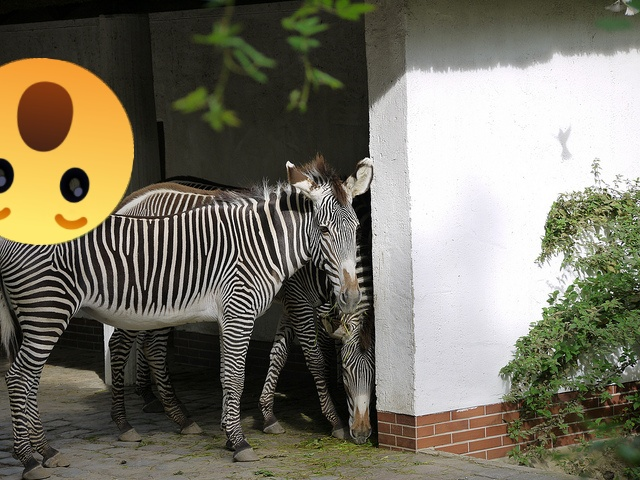wow: (0, 58, 134, 245)
